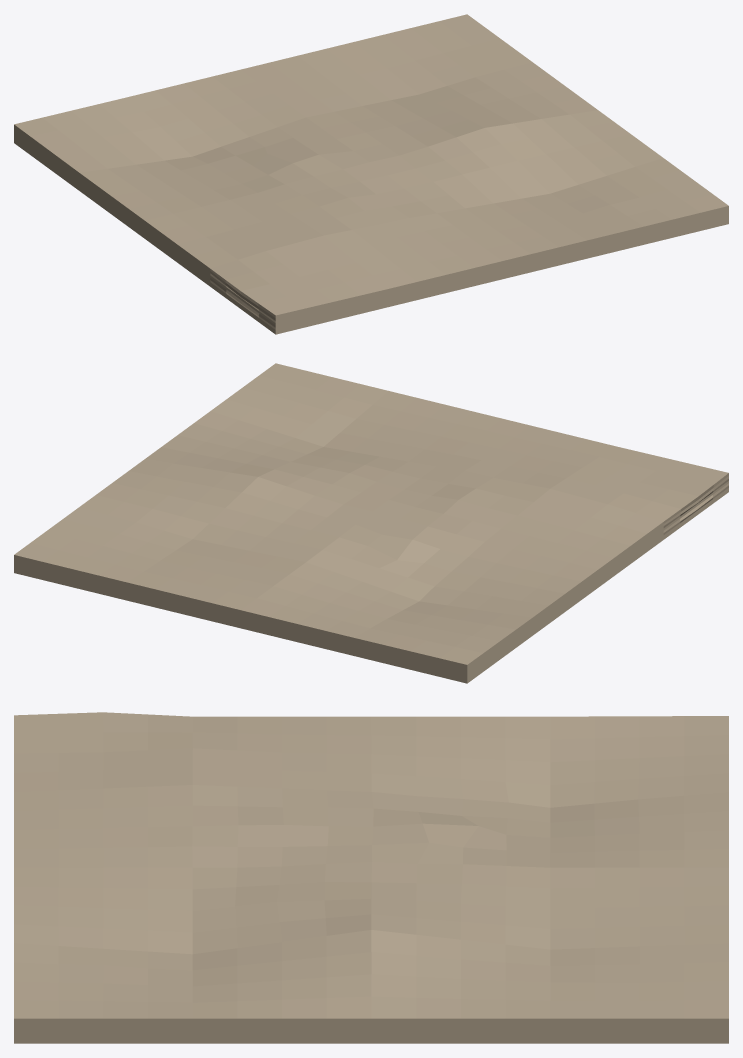
File: ground.glb
3 renders of one model, top to bottom at view 1: azimuth 30°, elevation 25°; view 2: azimuth 150°, elevation 25°; view 3: azimuth 270°, elevation 25°, orthographic. The views are drawn at different scales.
Parts seen in each view (by area): view 1: Cube; view 2: Cube; view 3: Cube.
Boxes of the visible parts, x1=… form: Cube: x1=14, y1=14, x2=728, y2=334; Cube: x1=14, y1=363, x2=728, y2=683; Cube: x1=14, y1=712, x2=728, y2=1043.
Bounding box in the file's own units: 8.14 × 0.479 × 8.1.
